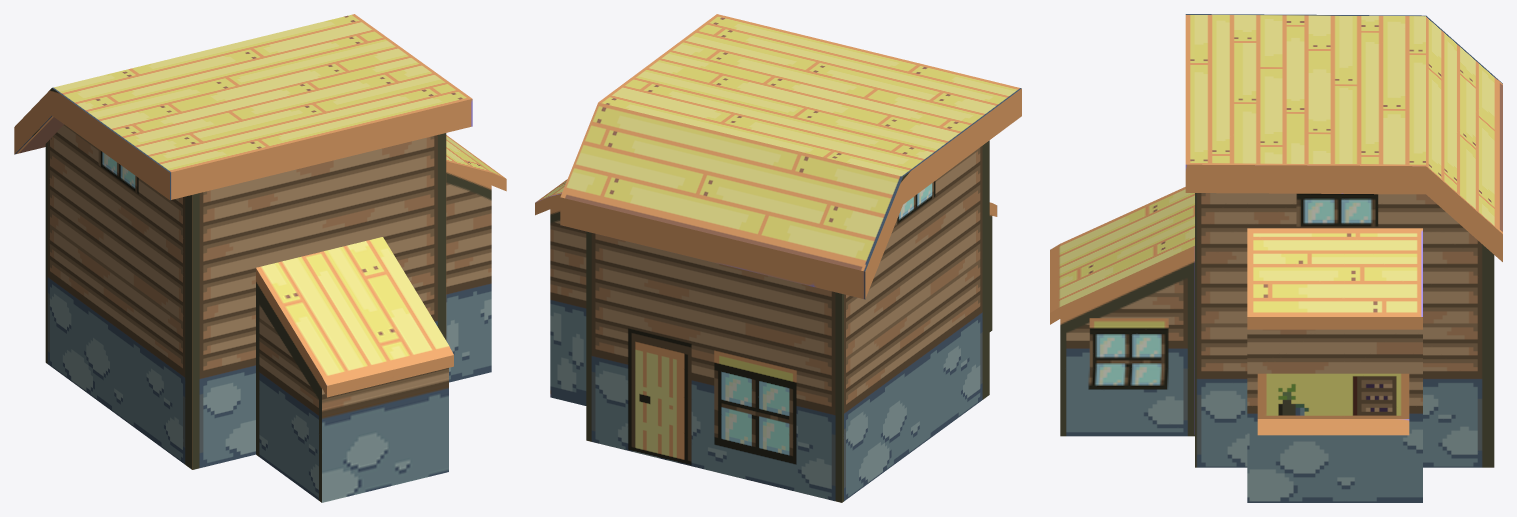
The model's file is shop.glb.
The picture shows the model from 3 angles, left to right: view 1: azimuth 30°, elevation 25°; view 2: azimuth 150°, elevation 25°; view 3: azimuth 270°, elevation 25°; orthographic projection. The views are drawn at different scales.
Visible parts, largest first — view 1: Cube; view 2: Cube; view 3: Cube.
Part boxes in pixels (bbox=[...]): Cube: bbox=[14, 14, 506, 502]; Cube: bbox=[535, 14, 1021, 502]; Cube: bbox=[1050, 14, 1502, 502].
Size of the model in its own units: 2.89 by 2.31 by 3.03.
1 material, 1 textured.
